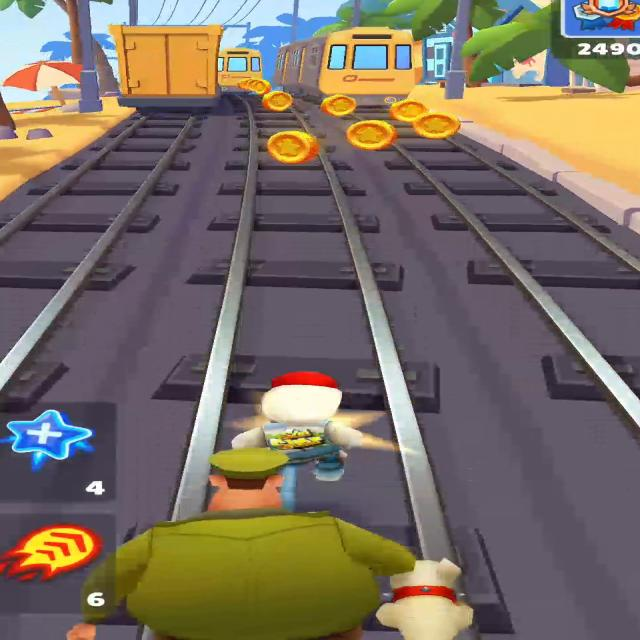police: (67, 449, 416, 640)
train: (274, 26, 423, 108), (109, 25, 223, 112), (219, 49, 261, 87)
